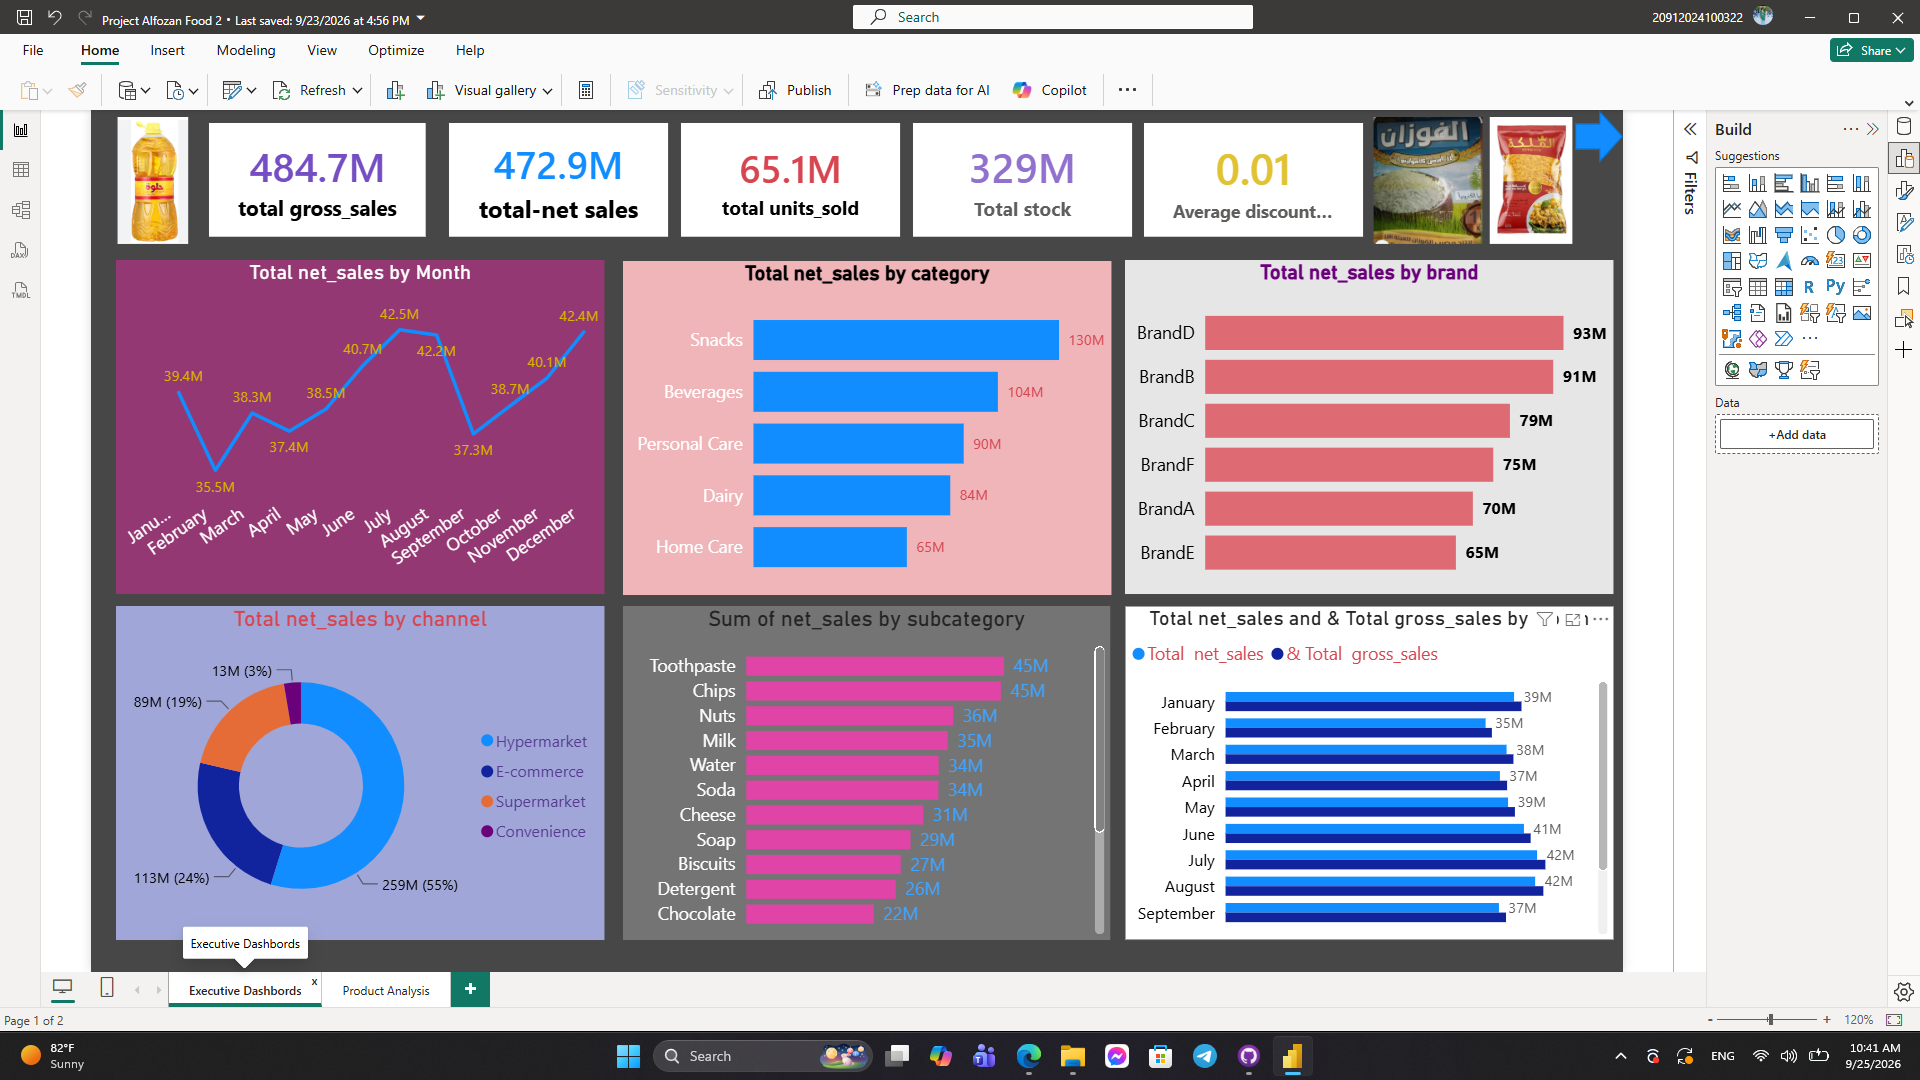

The dashboard page shown, as its layout file describes it:
{"tool":"powerbi","page":{"name":"Executive Dashbords","canvas":[1280,720],"ordinal":0},"visuals":[{"type":"cardVisual","fields":{"Data":["Sum(fmcg_sales_3years_1M_rows.net_sales)"]},"box":[294.3,6,193.5,105.8],"z":0},{"type":"cardVisual","fields":{"Data":["Sum(fmcg_sales_3years_1M_rows.gross_sales)"]},"box":[93.7,6,191.5,105.8],"z":1000},{"type":"cardVisual","fields":{"Data":["Sum(fmcg_sales_3years_1M_rows.units_sold)"]},"box":[487.8,6,193.5,105.8],"z":2000},{"type":"cardVisual","fields":{"Data":["Sum(fmcg_sales_3years_1M_rows.stock_on_hand)"]},"box":[681.3,6,193.5,105.8],"z":3000},{"type":"cardVisual","fields":{"Data":["Avg(fmcg_sales_3years_1M_rows.discount_pct)"]},"box":[874.8,6,193.5,105.8],"z":4000},{"type":"image","box":[1058.3,6,116.9,105.8],"z":5000},{"type":"image","box":[9.1,6,84.7,105.8],"z":6000},{"type":"image","box":[1154,6,96.8,105.8],"z":7000},{"type":"lineChart","title":"Total net_sales by Month","fields":{"Category":["fmcg_sales_3years_1M_rows.date.Variation.Date Hierarchy.Year","fmcg_sales_3years_1M_rows.date.Variation.Date Hierarchy.Month"],"Y":["Sum(fmcg_sales_3years_1M_rows.net_sales)"]},"box":[21.2,125,408.2,279.2],"z":8000},{"type":"clusteredBarChart","title":"Total net_sales by category","fields":{"Category":["fmcg_sales_3years_1M_rows.category"],"Y":["Sum(fmcg_sales_3years_1M_rows.net_sales)"]},"box":[444.5,126,408.2,279.2],"z":9000},{"type":"clusteredBarChart","title":"Total net_sales by brand","fields":{"Category":["fmcg_sales_3years_1M_rows.brand"],"Y":["Sum(fmcg_sales_3years_1M_rows.net_sales)"]},"box":[863.7,125,408.2,279.2],"z":10000},{"type":"donutChart","title":"Total net_sales by channel","fields":{"Category":["fmcg_sales_3years_1M_rows.channel"],"Y":["Sum(fmcg_sales_3years_1M_rows.net_sales)"]},"box":[21,414,408,279],"z":11000},{"type":"barChart","fields":{"Category":["fmcg_sales_3years_1M_rows.subcategory"],"Y":["Sum(fmcg_sales_3years_1M_rows.net_sales)"]},"box":[444.5,414.2,407.2,279.2],"z":12000},{"type":"clusteredBarChart","fields":{"Category":["fmcg_sales_3years_1M_rows.date.Variation.Date Hierarchy.Month"],"Y":["Sum(fmcg_sales_3years_1M_rows.net_sales)","Sum(fmcg_sales_3years_1M_rows.gross_sales)"]},"box":[863.7,414.2,408.2,279.2],"z":13000},{"type":"shape","box":[1239.7,0,40.3,44.3],"z":13001}]}

Visuals, with their boxes on the page's 1280x720 design canvas (x1, y1, x2, y2). These are canvas units, not pixel positions in the 1920x1080 screenshot, which may show the page scaled, cropped or inside an application window:
cardVisual - Sum(fmcg_sales_3years_1M_rows.net_sales): l=294, t=6, r=488, b=112
cardVisual - Sum(fmcg_sales_3years_1M_rows.gross_sales): l=94, t=6, r=285, b=112
cardVisual - Sum(fmcg_sales_3years_1M_rows.units_sold): l=488, t=6, r=681, b=112
cardVisual - Sum(fmcg_sales_3years_1M_rows.stock_on_hand): l=681, t=6, r=875, b=112
cardVisual - Avg(fmcg_sales_3years_1M_rows.discount_pct): l=875, t=6, r=1068, b=112
image: l=1058, t=6, r=1175, b=112
image: l=9, t=6, r=94, b=112
image: l=1154, t=6, r=1251, b=112
"Total net_sales by Month" lineChart: l=21, t=125, r=429, b=404
"Total net_sales by category" clusteredBarChart: l=444, t=126, r=853, b=405
"Total net_sales by brand" clusteredBarChart: l=864, t=125, r=1272, b=404
"Total net_sales by channel" donutChart: l=21, t=414, r=429, b=693
barChart - fmcg_sales_3years_1M_rows.subcategory x Sum(fmcg_sales_3years_1M_rows.net_sales): l=444, t=414, r=852, b=693
clusteredBarChart - fmcg_sales_3years_1M_rows.date.Variation.Date Hierarchy.Month x Sum(fmcg_sales_3years_1M_rows.net_sales): l=864, t=414, r=1272, b=693
shape: l=1240, t=0, r=1280, b=44
